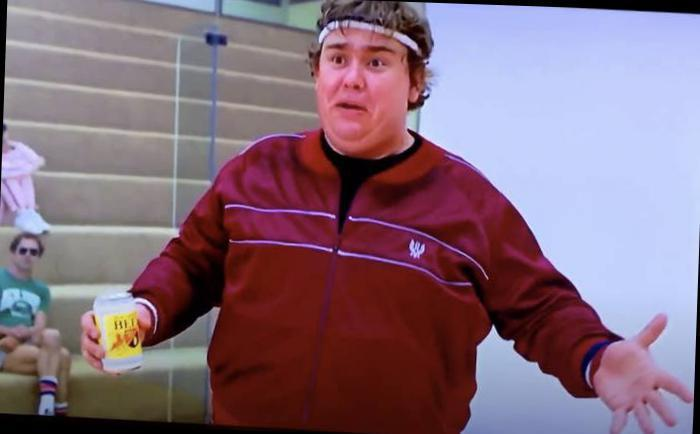Drunk: (319, 27, 408, 147)
